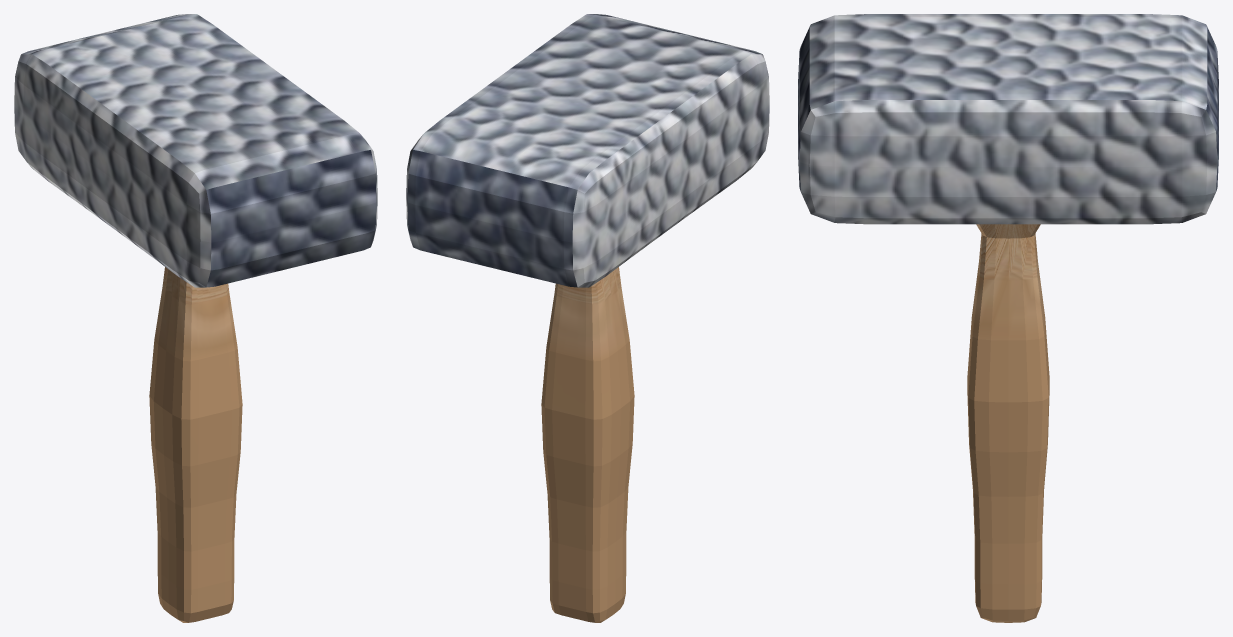
File: Hammer.fbx
3 renders of one model, left to right at view 1: azimuth 30°, elevation 25°; view 2: azimuth 150°, elevation 25°; view 3: azimuth 270°, elevation 25°, orthographic. The views are drawn at different scales.
Visible parts, largest first — view 1: Hammer; view 2: Hammer; view 3: Hammer.
Part boxes in pixels (x1,y1,x2,y2): Hammer: [14, 14, 377, 622]; Hammer: [406, 14, 769, 622]; Hammer: [798, 14, 1218, 622].
Size of the model in its own units: 32.14 by 87.7 by 60.
Materials: 1 (1 with a texture image).
